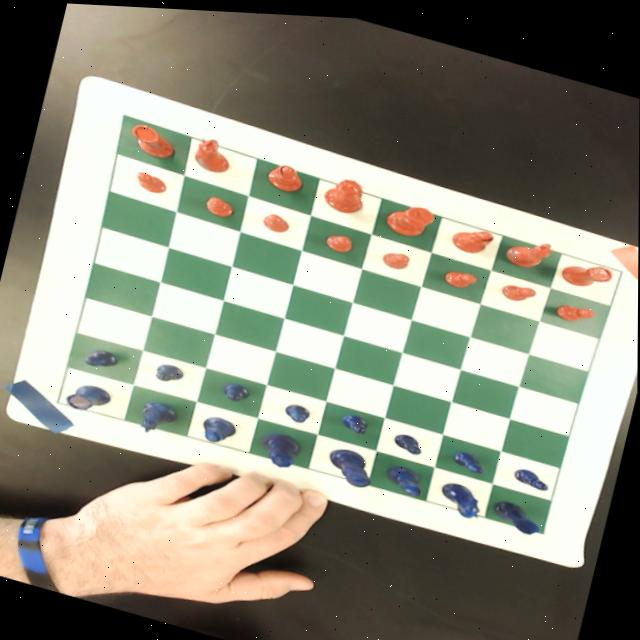B: (198, 411, 239, 447), (383, 458, 425, 493)
K: (322, 440, 377, 486)
N: (134, 395, 181, 440), (436, 474, 485, 517)
P: (82, 343, 121, 372), (510, 459, 550, 486), (217, 376, 252, 403), (450, 443, 485, 469), (337, 406, 371, 432), (153, 358, 185, 384), (392, 426, 423, 451), (283, 398, 310, 421)
Q: (256, 425, 305, 469)
R: (488, 492, 543, 532), (62, 378, 115, 418)
b: (448, 216, 495, 253), (261, 156, 305, 191)
k: (381, 193, 435, 237)
n: (500, 223, 554, 270), (192, 132, 234, 173)
p: (128, 164, 172, 198), (435, 258, 479, 290), (551, 291, 593, 324), (252, 204, 292, 237), (497, 271, 538, 302), (379, 242, 411, 271), (199, 191, 231, 220), (320, 227, 355, 252)
q: (320, 169, 367, 213)
r: (125, 118, 179, 160), (559, 250, 615, 288)
